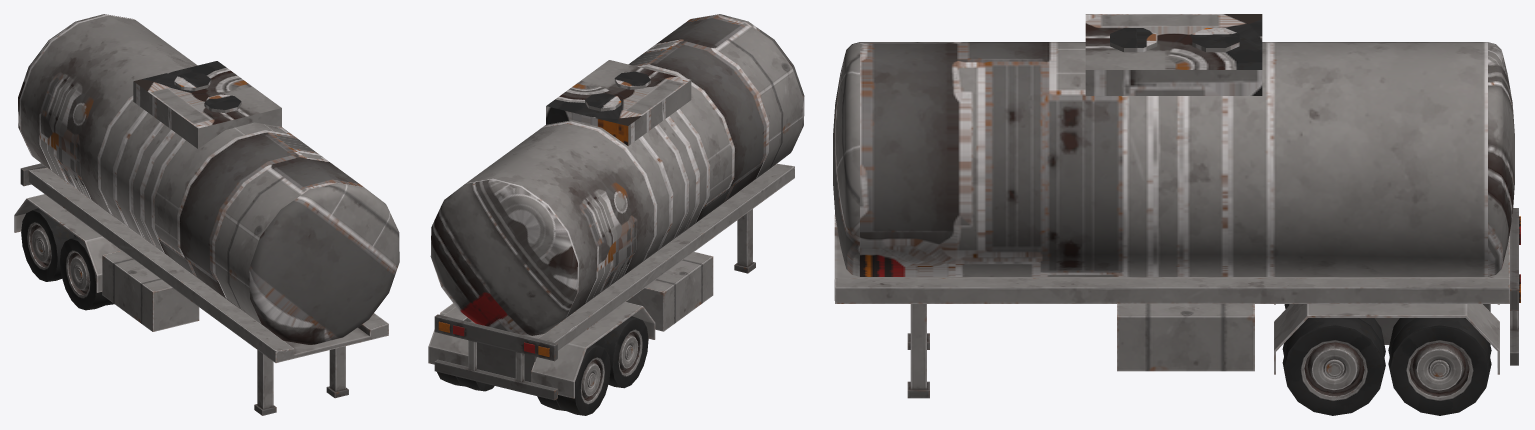
The model's file is SM_Props_Truck_01.glb.
The picture shows the model from 3 angles, left to right: view 1: azimuth 30°, elevation 25°; view 2: azimuth 150°, elevation 25°; view 3: azimuth 270°, elevation 25°; orthographic projection. The views are drawn at different scales.
Parts seen in each view (by area): view 1: SM_Props_Truck_01; view 2: SM_Props_Truck_01; view 3: SM_Props_Truck_01.
Part boxes in pixels (x1,y1,x2,y2): SM_Props_Truck_01: (14,14,399,415); SM_Props_Truck_01: (428,14,804,415); SM_Props_Truck_01: (833,14,1520,415).
Size of the model in its own units: 2.15 by 3.28 by 6.17.
Materials: 2 (2 with a texture image).
